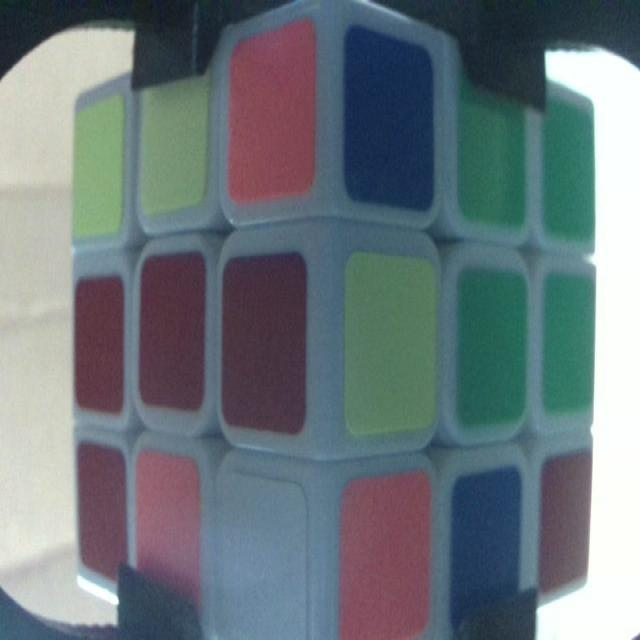b: (351, 38, 430, 198), (453, 482, 522, 626)
g: (461, 272, 524, 421), (457, 78, 523, 210), (545, 98, 591, 234), (548, 276, 597, 403)
o: (344, 488, 428, 640), (232, 41, 311, 191), (137, 456, 195, 616)
r: (223, 261, 302, 420), (142, 260, 201, 405), (542, 460, 588, 583), (79, 449, 122, 579), (74, 287, 122, 396)
w: (222, 476, 308, 640)
y: (347, 256, 439, 437), (141, 80, 207, 220), (76, 105, 119, 228)
